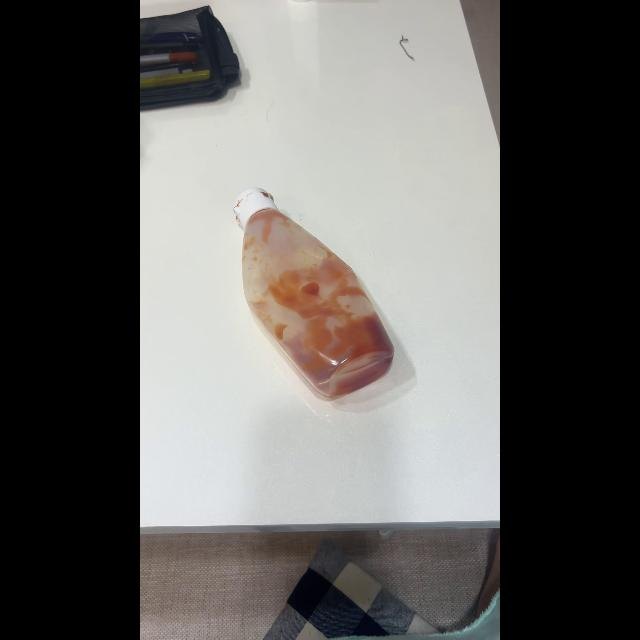dirty: (232, 182, 394, 406)
